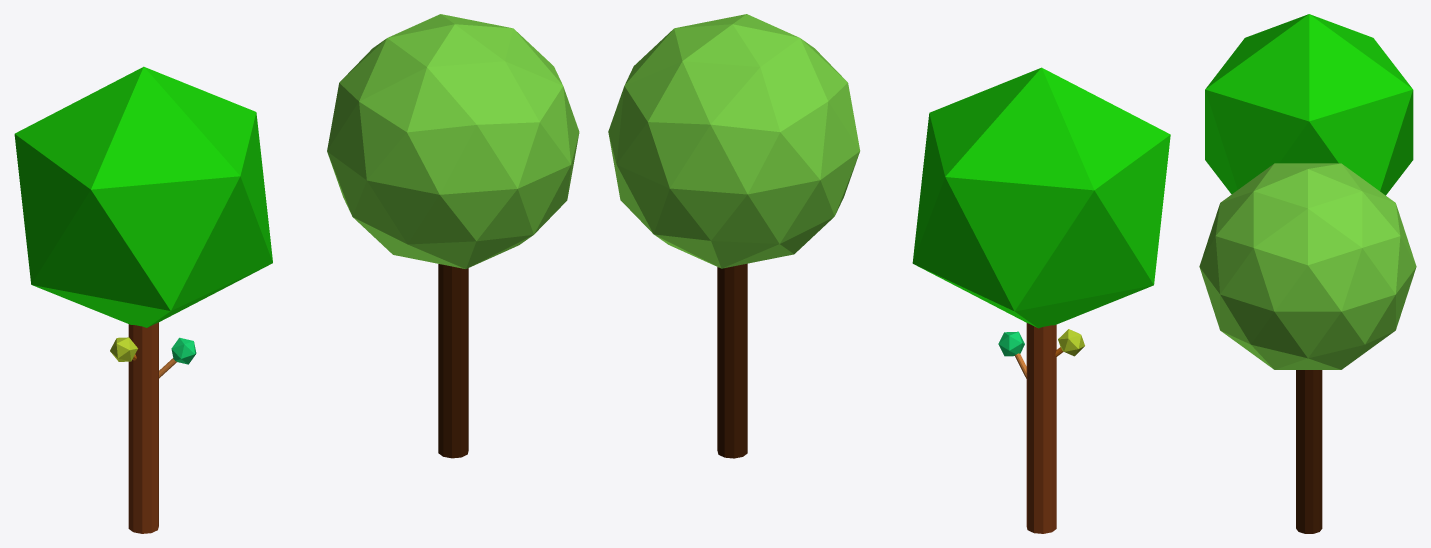
Rendered from trees.fbx.
The picture shows the model from 3 angles, left to right: view 1: azimuth 30°, elevation 25°; view 2: azimuth 150°, elevation 25°; view 3: azimuth 270°, elevation 25°; orthographic projection. The views are drawn at different scales.
Visible parts, largest first — view 1: Cylinder.001, Icosphere.003, Cylinder.003; view 2: Cylinder.001, Icosphere.003, Cylinder.003; view 3: Icosphere.003, Cylinder.001, Cylinder.003.
Boxes of the visible parts, left/top/right/bottom form: Cylinder.001: left=14, top=66, right=272, bottom=533; Icosphere.003: left=327, top=14, right=579, bottom=268; Cylinder.003: left=438, top=264, right=468, bottom=458; Cylinder.001: left=912, top=67, right=1170, bottom=533; Icosphere.003: left=608, top=14, right=860, bottom=268; Cylinder.003: left=717, top=263, right=747, bottom=458; Icosphere.003: left=1199, top=163, right=1416, bottom=369; Cylinder.001: left=1205, top=14, right=1413, bottom=195; Cylinder.003: left=1296, top=370, right=1322, bottom=533.
Size of the model in its own units: 1249 by 1042 by 529.
